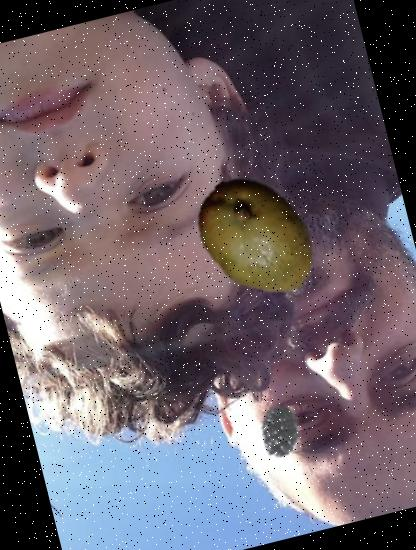Mulberry: (249, 400, 312, 463)
Papaya: (178, 158, 338, 318)
